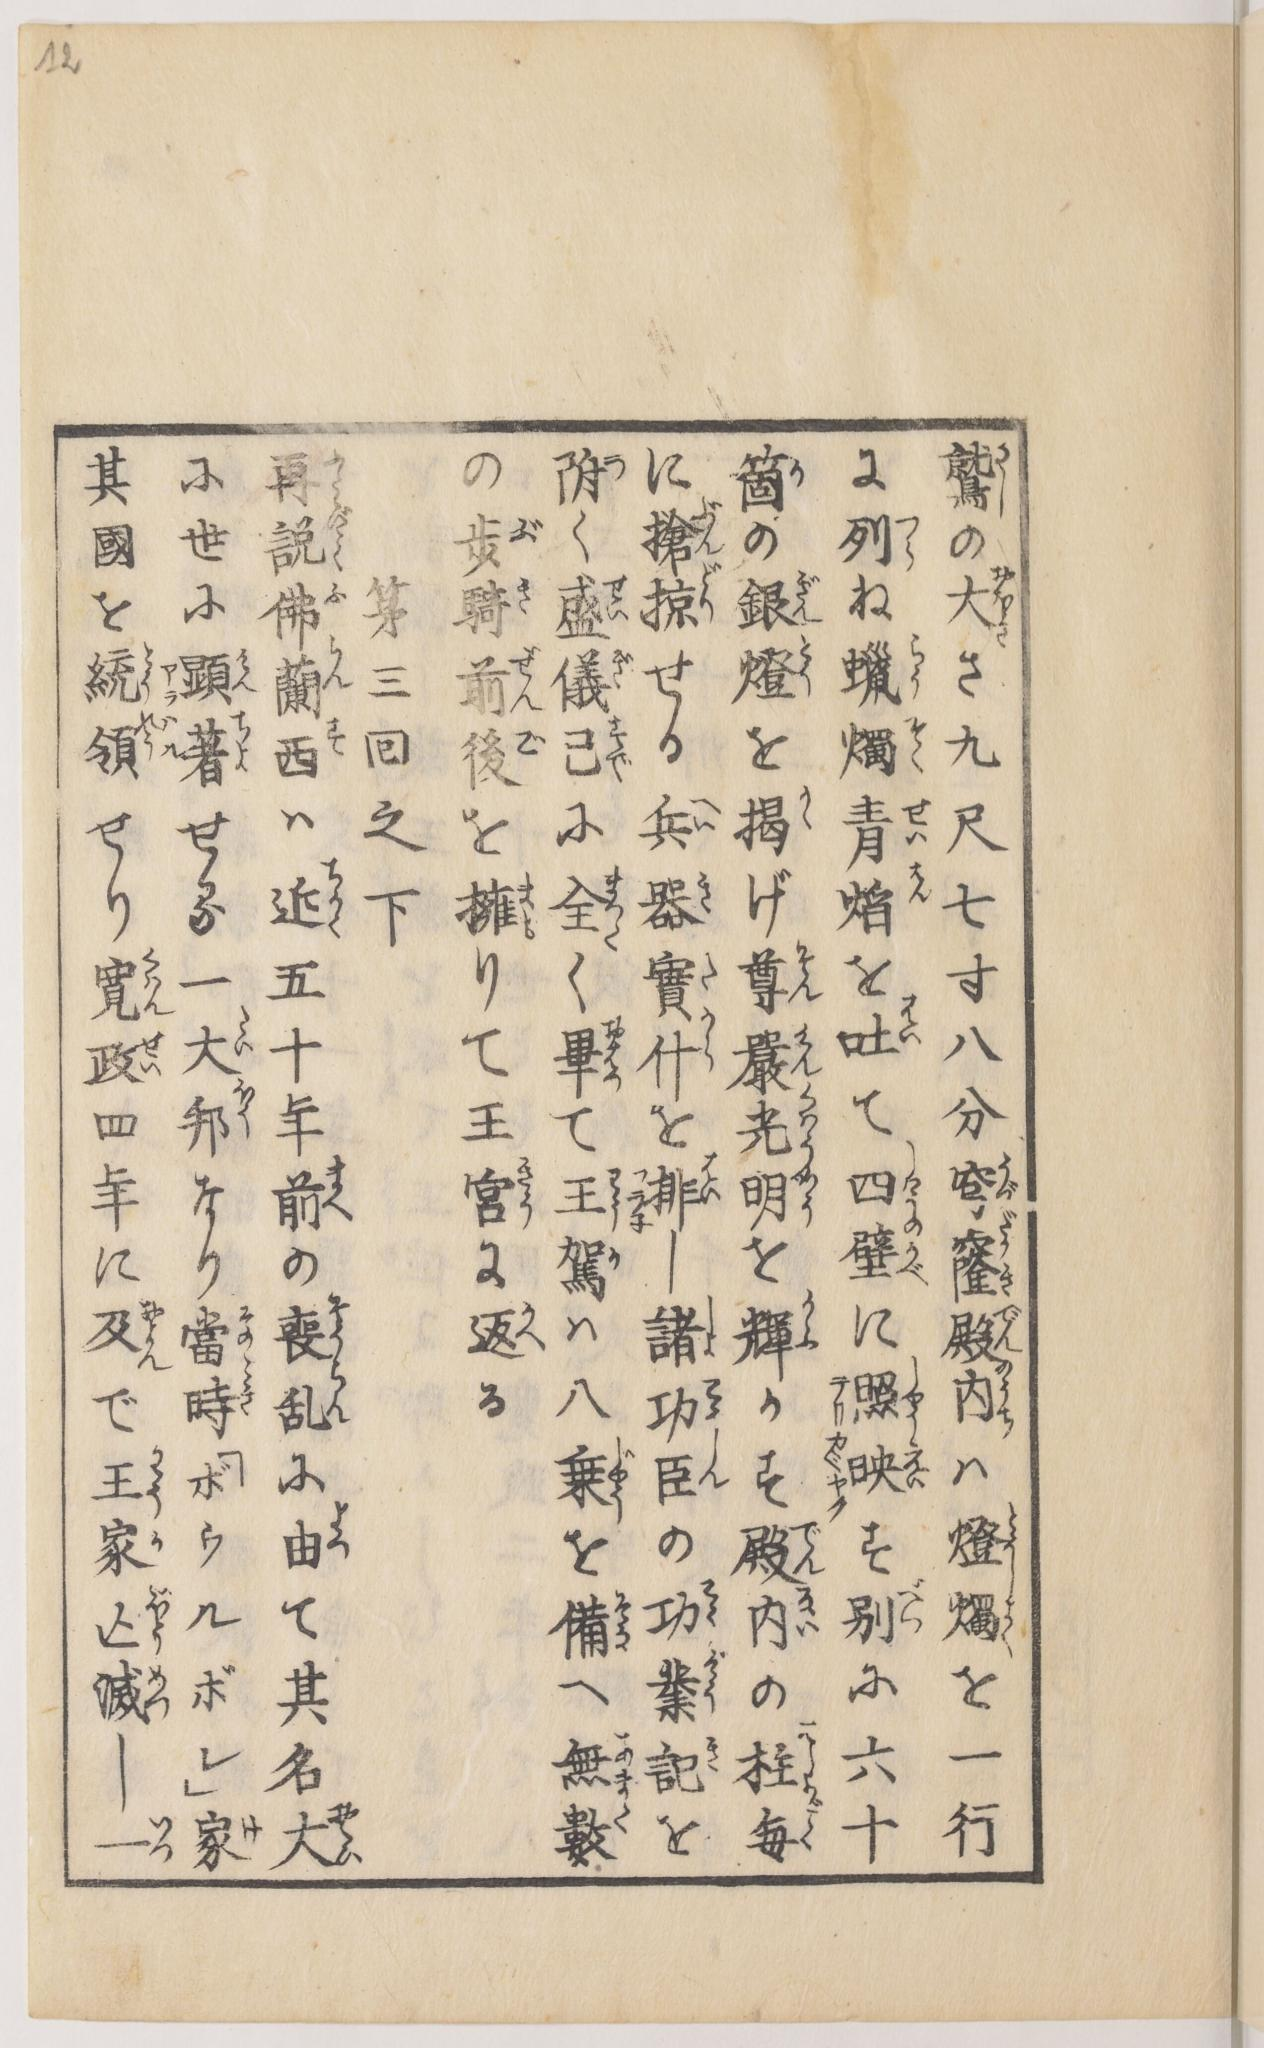MainZone-Character: (76, 1287, 174, 1377), (843, 1141, 929, 1233), (942, 1207, 1026, 1302), (822, 711, 929, 784), (737, 1284, 821, 1377), (650, 1425, 739, 1510), (736, 1725, 829, 1805), (266, 856, 353, 942), (275, 1798, 370, 1875), (724, 636, 822, 711), (83, 1580, 178, 1656), (266, 1156, 361, 1232), (85, 707, 180, 781), (80, 1444, 180, 1514), (844, 791, 939, 865), (456, 1150, 543, 1230), (544, 1015, 632, 1093), (730, 780, 821, 854), (88, 952, 180, 1025), (731, 565, 827, 635), (737, 1083, 825, 1159), (841, 1575, 930, 1650), (260, 508, 357, 576), (456, 870, 554, 938), (837, 638, 936, 704), (550, 1589, 638, 1663), (835, 865, 930, 933), (455, 647, 544, 720), (178, 1359, 268, 1432), (269, 1495, 358, 1568), (944, 1360, 1026, 1439), (455, 724, 547, 794), (554, 870, 636, 949), (644, 1018, 723, 1100), (550, 1439, 635, 1516), (452, 506, 546, 575), (635, 1292, 726, 1362), (180, 709, 259, 790), (276, 1360, 360, 1437), (639, 559, 726, 632), (275, 1289, 357, 1365), (556, 1805, 648, 1872), (83, 1657, 174, 1725), (835, 995, 923, 1063), (742, 942, 821, 1018), (734, 1164, 824, 1232), (177, 1083, 259, 1156), (635, 496, 730, 559), (941, 433, 1012, 516), (456, 1296, 549, 1360), (557, 712, 638, 786), (645, 1652, 727, 1723), (271, 644, 355, 712), (80, 1033, 173, 1096), (944, 1583, 1023, 1656), (748, 1584, 828, 1656), (644, 1729, 727, 1798), (835, 1227, 930, 1287), (633, 1365, 729, 1425), (559, 1732, 641, 1801), (553, 1233, 626, 1309), (183, 1008, 262, 1078), (644, 1574, 724, 1643), (948, 562, 1014, 645), (86, 1513, 176, 1574), (92, 1815, 186, 1874), (853, 1362, 933, 1429), (736, 1025, 824, 1087), (736, 1517, 819, 1581), (178, 641, 262, 705), (948, 1498, 1023, 1570), (547, 439, 625, 508), (942, 1300, 1028, 1362), (73, 642, 155, 707), (644, 865, 720, 933), (650, 1153, 726, 1221), (731, 448, 809, 515), (550, 645, 635, 707), (263, 578, 348, 639), (456, 576, 538, 639), (843, 1441, 930, 1499), (557, 568, 631, 638), (638, 790, 721, 851), (257, 449, 350, 505), (642, 945, 721, 1009), (275, 717, 354, 781), (183, 1308, 262, 1372), (189, 1804, 260, 1872), (745, 1805, 829, 1862), (955, 1147, 1021, 1217), (553, 1167, 628, 1227)
MainZone-Ruby: (133, 1300, 181, 1379), (133, 705, 184, 767), (138, 944, 178, 1018), (601, 705, 636, 790), (323, 1489, 361, 1567), (140, 1578, 177, 1659), (326, 1792, 364, 1868), (796, 1720, 828, 1807), (600, 866, 632, 952), (787, 939, 825, 1008), (900, 1145, 929, 1235), (895, 788, 936, 851), (606, 1439, 641, 1513), (600, 1012, 629, 1100), (323, 853, 351, 945), (990, 1365, 1023, 1444), (325, 1151, 357, 1229), (509, 645, 543, 717), (992, 1300, 1030, 1362), (691, 494, 726, 560), (787, 1516, 822, 1578), (900, 1363, 935, 1426), (898, 1575, 932, 1640), (791, 1581, 827, 1643), (989, 565, 1015, 645), (323, 1363, 355, 1429), (996, 1205, 1020, 1295), (699, 1431, 730, 1498), (231, 711, 257, 788), (612, 1731, 639, 1804), (695, 556, 726, 622), (895, 990, 929, 1049), (513, 869, 540, 944), (701, 1644, 726, 1722), (907, 636, 935, 705), (328, 508, 355, 576), (793, 638, 822, 702), (904, 1441, 936, 1499), (516, 1296, 547, 1356), (237, 1359, 268, 1419), (793, 1166, 822, 1229), (695, 1008, 720, 1081), (794, 1287, 821, 1356), (794, 1085, 821, 1154), (794, 569, 824, 629), (142, 1665, 171, 1725), (516, 1148, 535, 1241), (145, 1448, 171, 1514), (996, 1592, 1021, 1660), (603, 569, 633, 625), (789, 783, 821, 835), (319, 712, 351, 765), (506, 508, 547, 549), (904, 711, 930, 774), (329, 1289, 354, 1355), (794, 1024, 824, 1080), (686, 790, 720, 838), (610, 1589, 633, 1657), (698, 1295, 720, 1368), (604, 1160, 626, 1233), (234, 999, 260, 1059), (992, 442, 1014, 513), (325, 644, 354, 696), (702, 1145, 726, 1210), (234, 644, 262, 698), (323, 451, 350, 508), (993, 1150, 1023, 1200), (512, 729, 552, 765), (236, 1296, 260, 1353), (149, 1817, 178, 1865), (138, 1028, 167, 1077), (892, 1242, 928, 1281), (138, 636, 159, 699), (693, 867, 720, 919), (607, 645, 636, 690), (1001, 1499, 1020, 1568), (513, 571, 538, 622), (783, 445, 810, 490), (701, 1377, 727, 1422), (316, 579, 351, 613), (695, 946, 723, 989), (704, 1571, 723, 1633), (236, 1081, 255, 1141), (903, 860, 926, 908), (606, 440, 631, 486), (800, 1810, 827, 1849), (142, 1523, 168, 1561), (704, 1733, 727, 1774), (234, 1808, 260, 1842), (606, 1235, 626, 1276), (612, 1805, 636, 1834)
